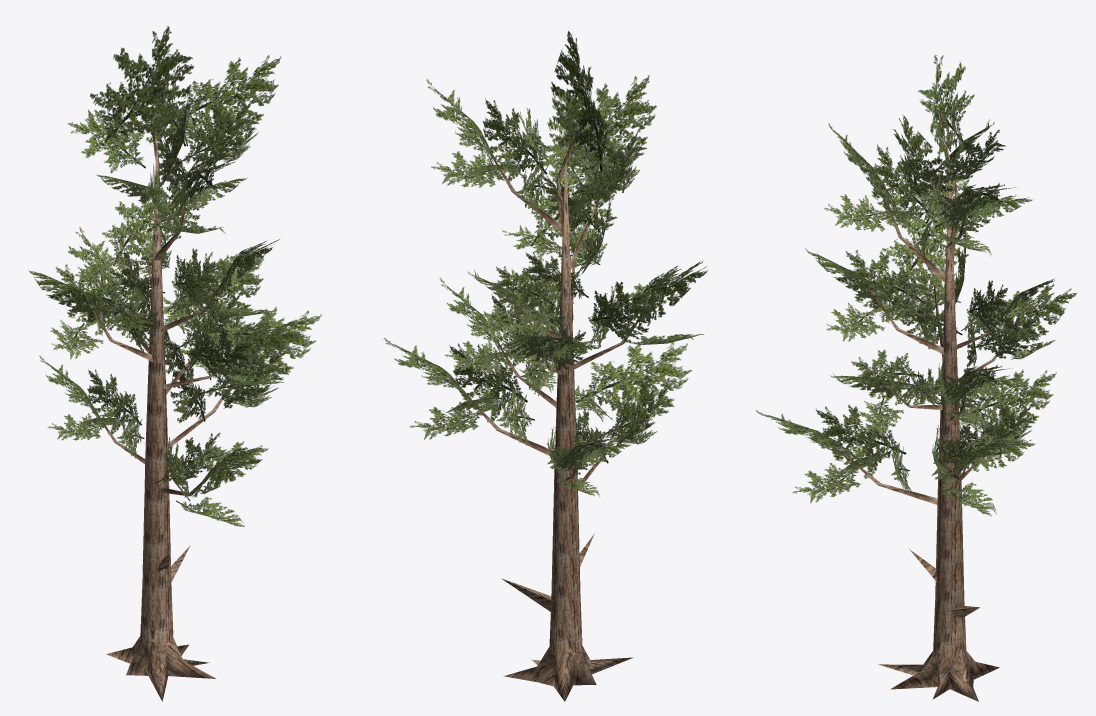
Rendered from medium_tree.glb.
The picture shows the model from 3 angles, left to right: view 1: azimuth 30°, elevation 25°; view 2: azimuth 150°, elevation 25°; view 3: azimuth 270°, elevation 25°; orthographic projection. The views are drawn at different scales.
Parts seen in each view (by area): view 1: Tree_1; view 2: Tree_1; view 3: Tree_1.
Boxes of the visible parts, x1,y1,x2,y2 form: Tree_1: (29,26,321,701); Tree_1: (383,31,707,701); Tree_1: (756,55,1077,701).
Bounding box in the file's own units: 7.65 × 15.26 × 7.13.
Materials: 2 (2 with a texture image).
